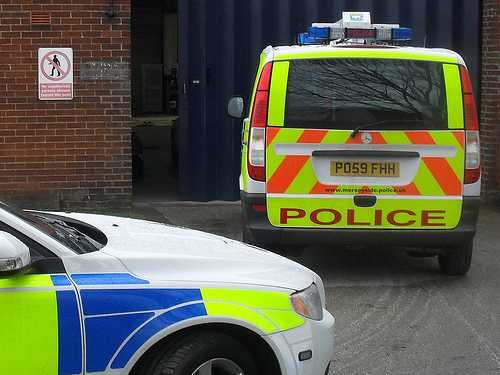Police Car: (6, 167, 371, 375)
Police Van: (222, 14, 487, 245)
